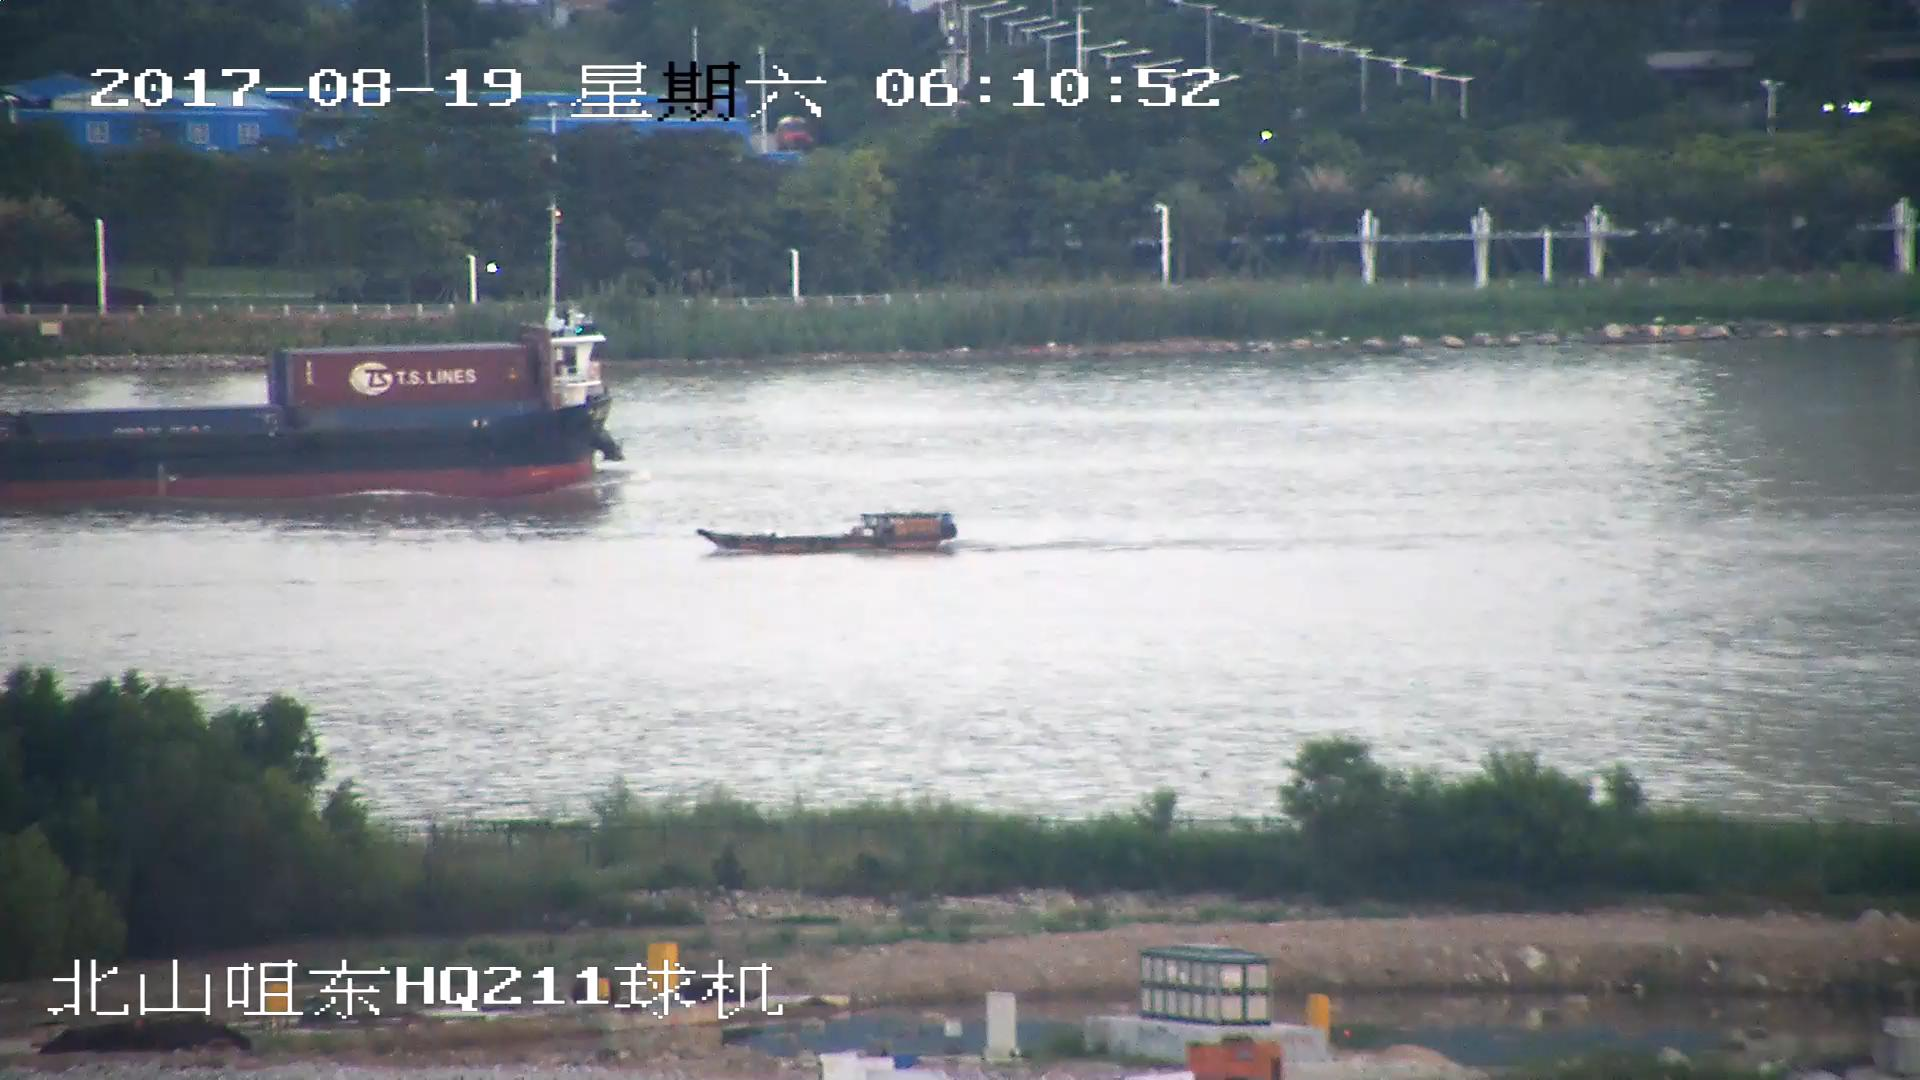container ship: (1, 305, 625, 501)
fishing boat: (697, 509, 957, 558)
